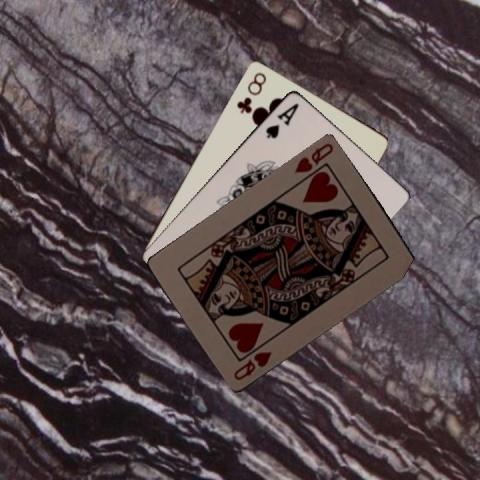8c: (233, 68, 268, 114)
As: (263, 100, 300, 140)
Qh: (292, 139, 335, 174), (231, 348, 273, 381)
